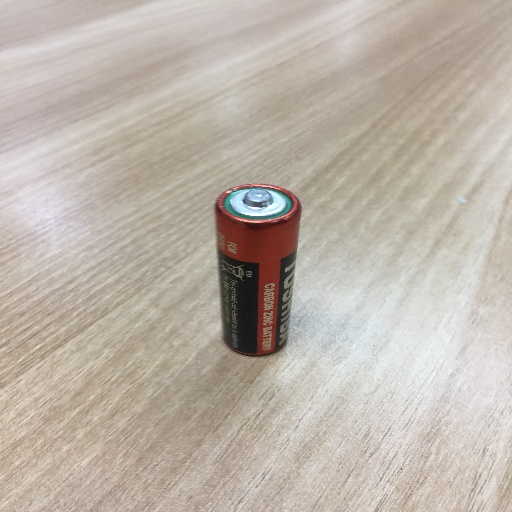Battery_0: (207, 167, 318, 367)
